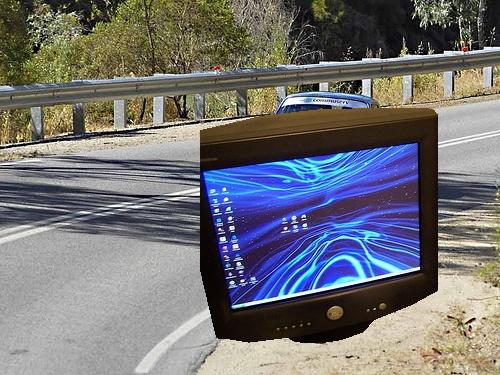tampered: (201, 109, 438, 343)
